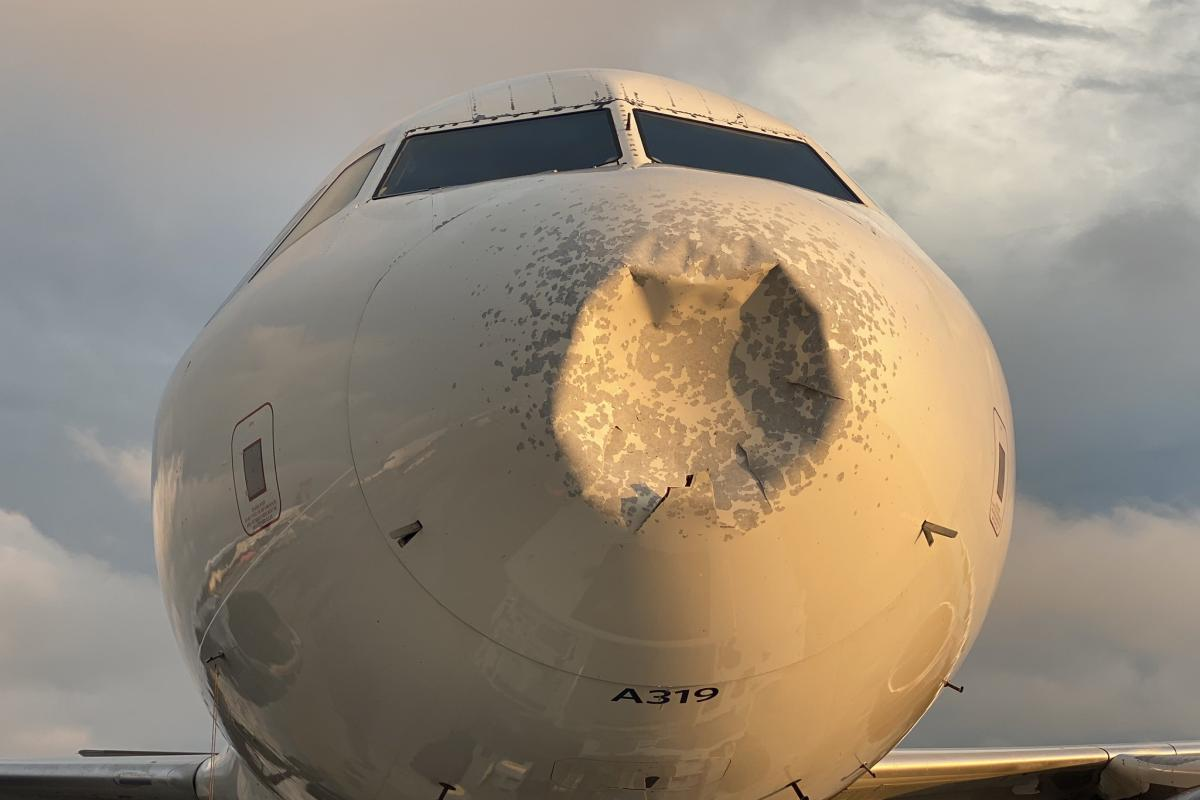Fuselage_damage: (456, 188, 899, 564)
